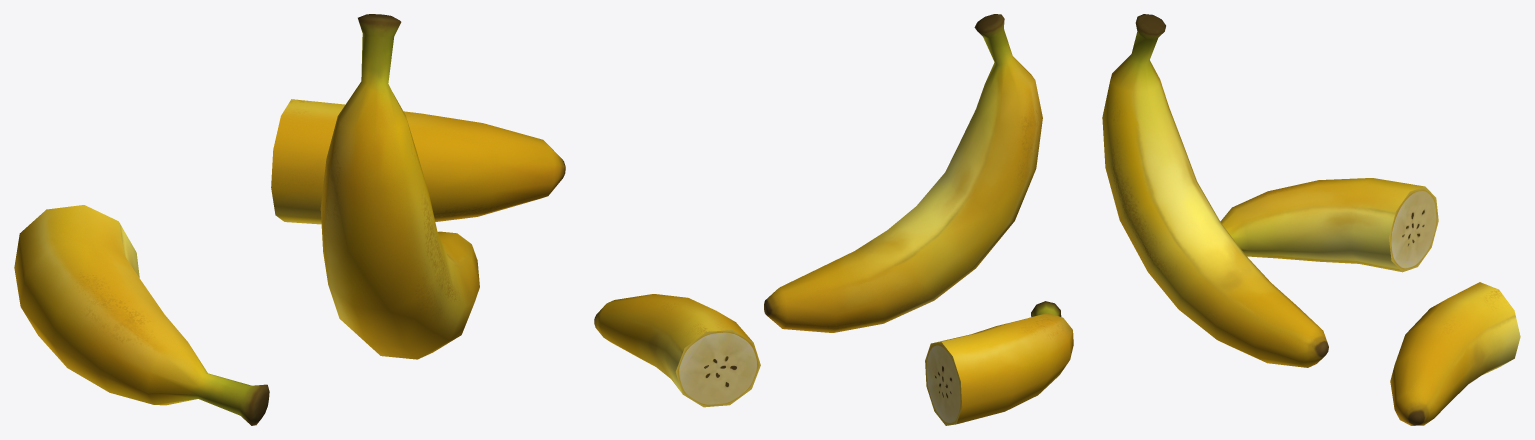
The model's file is banana_yellow_low_poly_asset.glb.
3 renders of one model, left to right at view 1: azimuth 30°, elevation 25°; view 2: azimuth 150°, elevation 25°; view 3: azimuth 270°, elevation 25°, orthographic. The views are drawn at different scales.
Visible parts, largest first — view 1: Full_Banana_Yellow, Banana_Yellow1, Banana_Yellow; view 2: Full_Banana_Yellow, Banana_Yellow1, Banana_Yellow; view 3: Full_Banana_Yellow, Banana_Yellow1, Banana_Yellow.
Part boxes in pixels (x1,y1,x2,y2): Full_Banana_Yellow: (320, 14, 479, 359); Banana_Yellow1: (14, 205, 269, 425); Banana_Yellow: (271, 99, 565, 224); Full_Banana_Yellow: (764, 14, 1042, 332); Banana_Yellow1: (925, 301, 1073, 425); Banana_Yellow: (594, 294, 760, 407); Full_Banana_Yellow: (1102, 14, 1328, 367); Banana_Yellow1: (1220, 178, 1438, 272); Banana_Yellow: (1390, 282, 1520, 425).
Bounding box in the file's own units: 2.92 × 2.01 × 2.59.
1 material, 1 textured.
